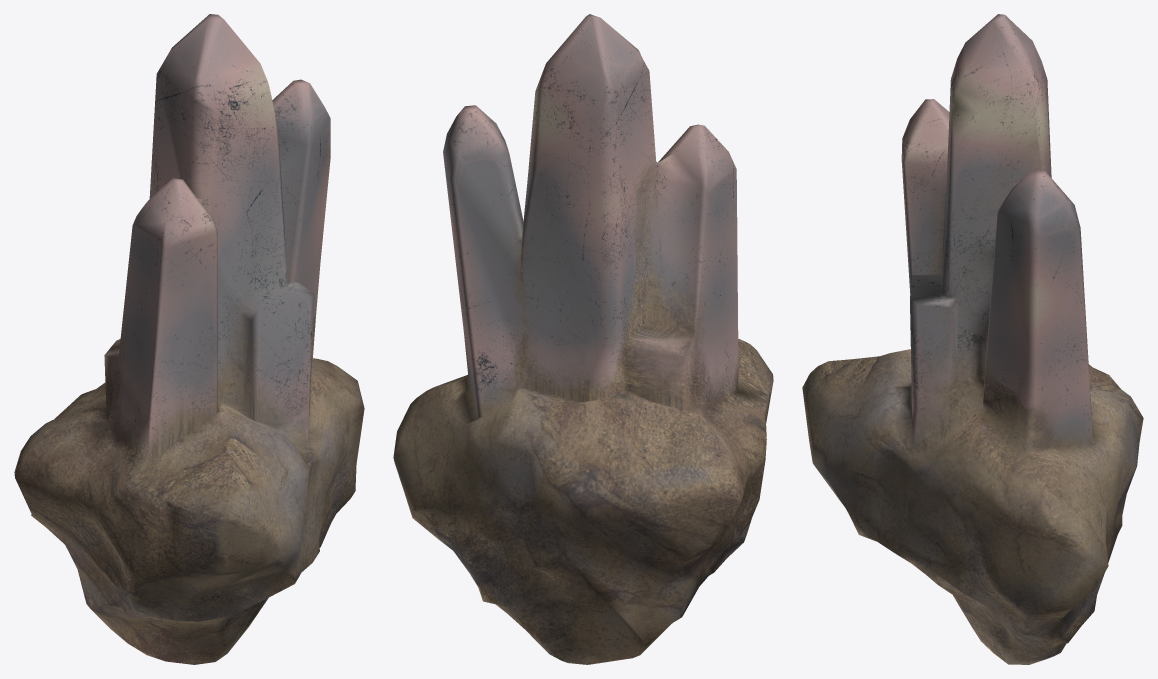
File: SM_Mineral_2.fbx
The picture shows the model from 3 angles, left to right: view 1: azimuth 30°, elevation 25°; view 2: azimuth 150°, elevation 25°; view 3: azimuth 270°, elevation 25°; orthographic projection. The views are drawn at different scales.
Parts seen in each view (by area): view 1: SM_Mineral_2; view 2: SM_Mineral_2; view 3: SM_Mineral_2.
Part boxes in pixels (x1=…): SM_Mineral_2: x1=14, y1=14, x2=364, y2=664; SM_Mineral_2: x1=393, y1=14, x2=773, y2=664; SM_Mineral_2: x1=802, y1=14, x2=1143, y2=664.
Bounding box in the file's own units: 0.895 × 1.63 × 0.7837.
